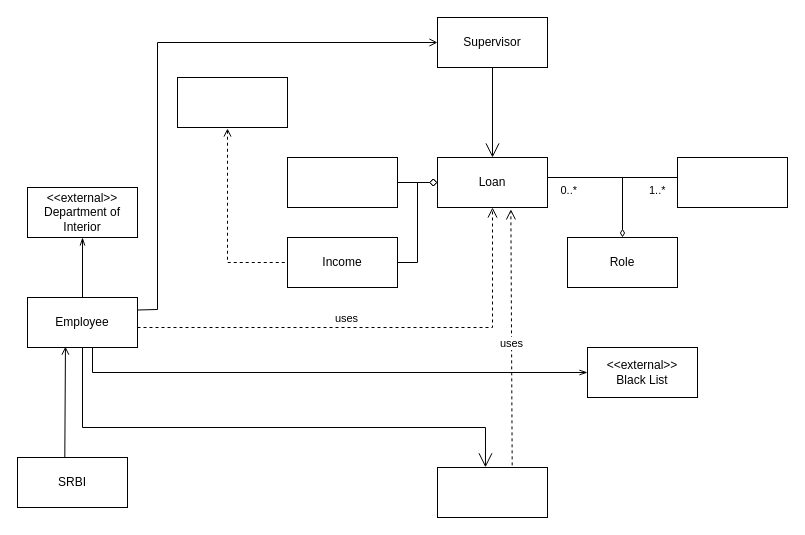
Some shapes in this 805 by 535 pixel diagram are drawn without their labels. The shapes that lost their labels are listed below. From the top down, each one's centre as x and y in pixels, then its label:
[232,102]: <<external>> Social Insurance Company
[342,182]: Liabilities
[732,182]: Client
[492,492]: Bank's Main System
